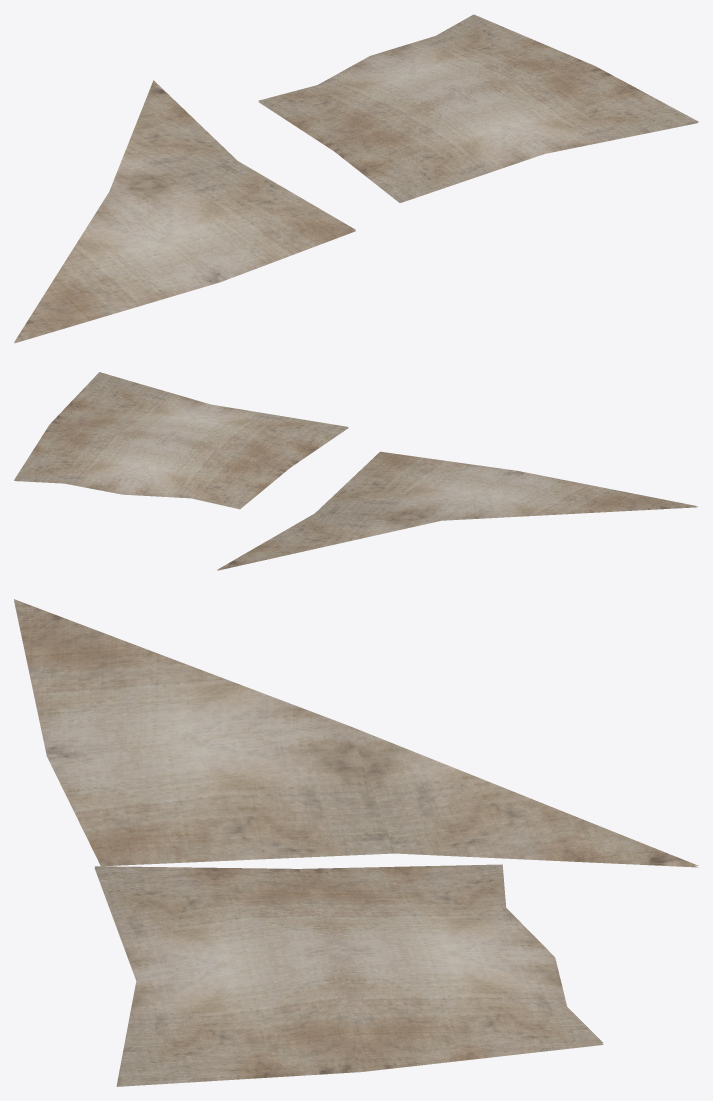
Rendered from Sail_A_Color_A.fbx.
3 renders of one model, top to bottom at view 1: azimuth 30°, elevation 25°; view 2: azimuth 150°, elevation 25°; view 3: azimuth 270°, elevation 25°, orthographic. The views are drawn at different scales.
Visible parts, largest first — view 1: Sail_A_Color_A; view 2: Sail_A_Color_A; view 3: Sail_A_Color_A.
Boxes of the visible parts, x1,y1,x2,y2 form: Sail_A_Color_A: (14,14,698,343); Sail_A_Color_A: (14,372,697,570); Sail_A_Color_A: (14,599,698,1086).
Bounding box in the file's own units: 10.75 × 0.4843 × 6.05.
